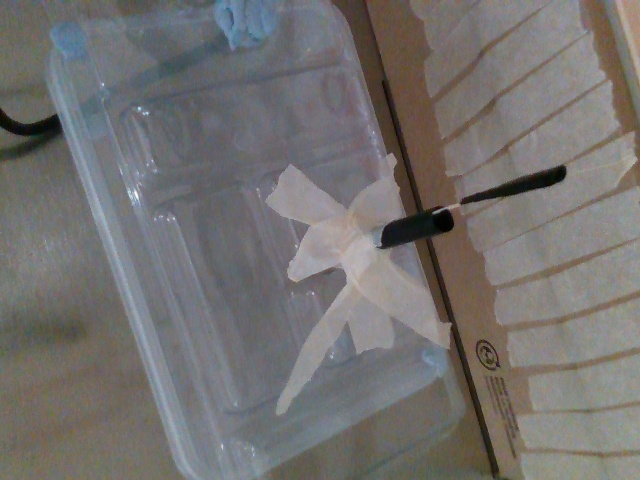test_strip: (432, 162, 565, 210)
